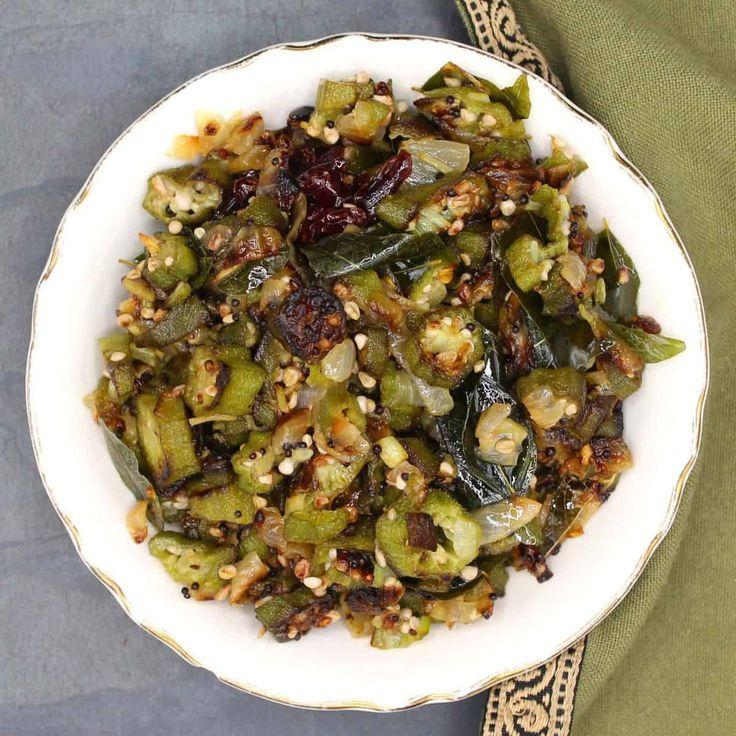bhindi: (142, 134, 600, 588)
